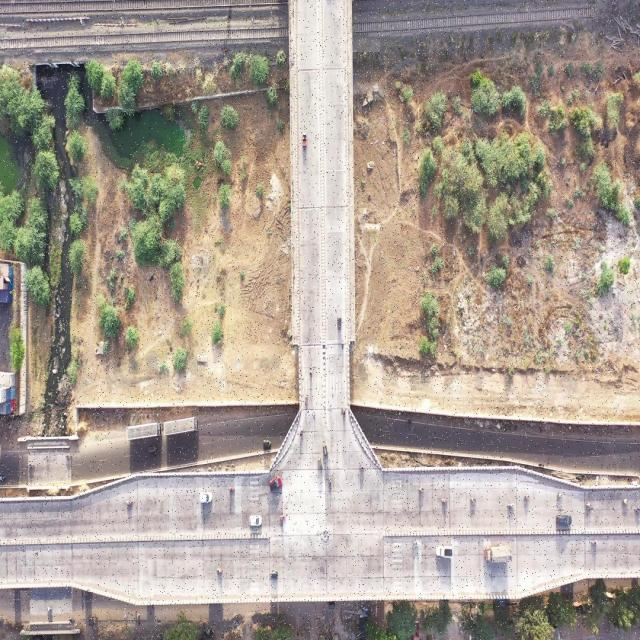3W: (320, 439, 332, 458), (298, 132, 310, 148), (268, 567, 280, 583), (314, 453, 324, 472), (261, 438, 274, 452), (334, 312, 344, 330), (147, 444, 160, 456), (88, 615, 99, 627), (326, 603, 336, 610)
Bus: (163, 418, 201, 437), (125, 420, 161, 440)
Cars: (247, 510, 263, 532), (197, 489, 215, 508), (554, 513, 574, 530), (268, 476, 282, 492)
LCV: (435, 543, 454, 565)
M2W: (226, 484, 237, 500), (308, 364, 317, 379), (125, 496, 135, 509), (341, 405, 348, 421), (620, 496, 630, 507), (468, 495, 478, 505), (278, 512, 287, 523), (507, 499, 516, 510), (326, 474, 333, 488), (46, 604, 54, 616), (311, 406, 317, 422), (214, 566, 223, 576), (304, 391, 310, 405), (555, 491, 564, 500), (411, 540, 421, 548), (589, 539, 599, 547), (584, 502, 594, 510), (523, 491, 531, 501), (358, 463, 365, 474), (64, 452, 72, 461), (26, 461, 36, 468), (418, 484, 425, 494), (340, 337, 345, 350), (440, 498, 449, 505), (405, 417, 414, 424), (0, 473, 6, 482), (634, 505, 640, 513), (539, 462, 545, 469), (300, 427, 304, 437)
Truck: (481, 545, 514, 565)
